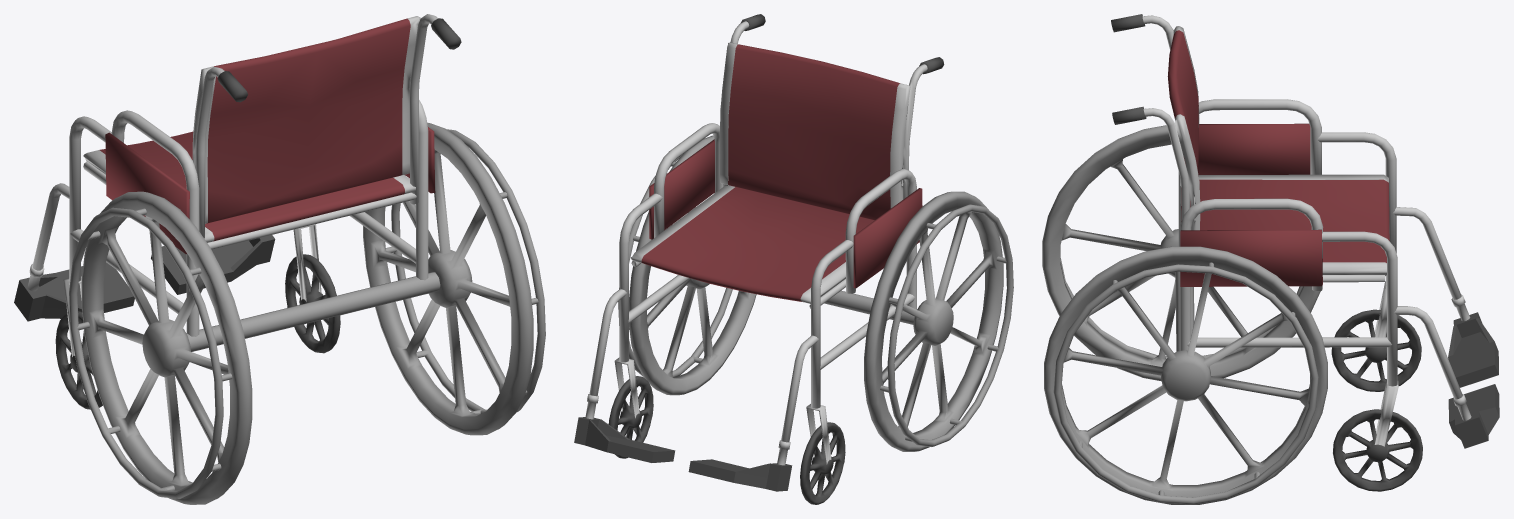
The model's file is wheel_chair.dae.
The picture shows the model from 3 angles, left to right: view 1: azimuth 30°, elevation 25°; view 2: azimuth 150°, elevation 25°; view 3: azimuth 270°, elevation 25°; orthographic projection. The views are drawn at different scales.
Visible parts, largest first — view 1: WheelChair_BigWheel, WheelChair_Mat, WheelChair_Frame, WheelChair_Padel, WheelChair_SmallWheel, WheelChair_Handle; view 2: WheelChair_Mat, WheelChair_BigWheel, WheelChair_Frame, WheelChair_SmallWheel, WheelChair_Padel, WheelChair_Handle; view 3: WheelChair_BigWheel, WheelChair_Mat, WheelChair_Frame, WheelChair_SmallWheel, WheelChair_Padel, WheelChair_Handle.
Boxes of the visible parts, x1,y1,x2,y2 form: WheelChair_BigWheel: [69, 122, 545, 504]; WheelChair_Mat: [99, 18, 435, 254]; WheelChair_Frame: [27, 14, 437, 356]; WheelChair_Padel: [14, 235, 275, 321]; WheelChair_SmallWheel: [55, 254, 340, 409]; WheelChair_Handle: [217, 18, 461, 102]; WheelChair_Mat: [641, 44, 922, 301]; WheelChair_BigWheel: [618, 135, 1013, 451]; WheelChair_Frame: [585, 21, 927, 465]; WheelChair_SmallWheel: [608, 376, 845, 504]; WheelChair_Padel: [574, 417, 792, 491]; WheelChair_Handle: [740, 14, 944, 74]; WheelChair_BigWheel: [1042, 125, 1327, 504]; WheelChair_Mat: [1167, 30, 1389, 286]; WheelChair_Frame: [1142, 15, 1471, 446]; WheelChair_SmallWheel: [1331, 309, 1422, 491]; WheelChair_Padel: [1448, 312, 1499, 448]; WheelChair_Handle: [1111, 14, 1146, 124].
Size of the model in its own units: 0.6335 by 0.8519 by 0.7872.
